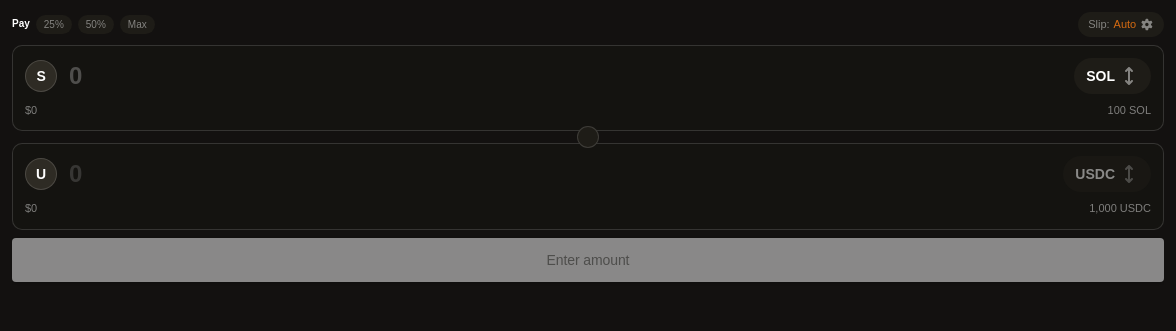
Test: SwapWidget › Quote Fetching › should update receive amount from quote
Step 1. Type "10" into the field named "enter sol amount" → (566, 76), box [69,60,1062,92]
Wait 500 ms
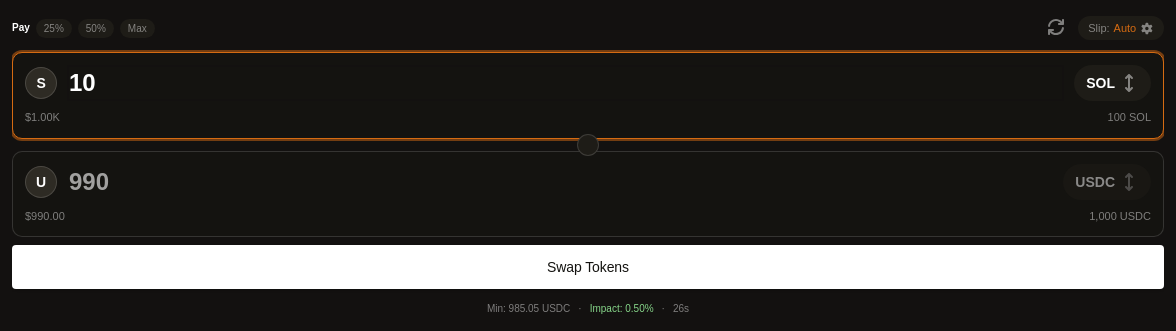
Now the field named "enter usdc amount" holds "990", box [69,166,1051,198]
